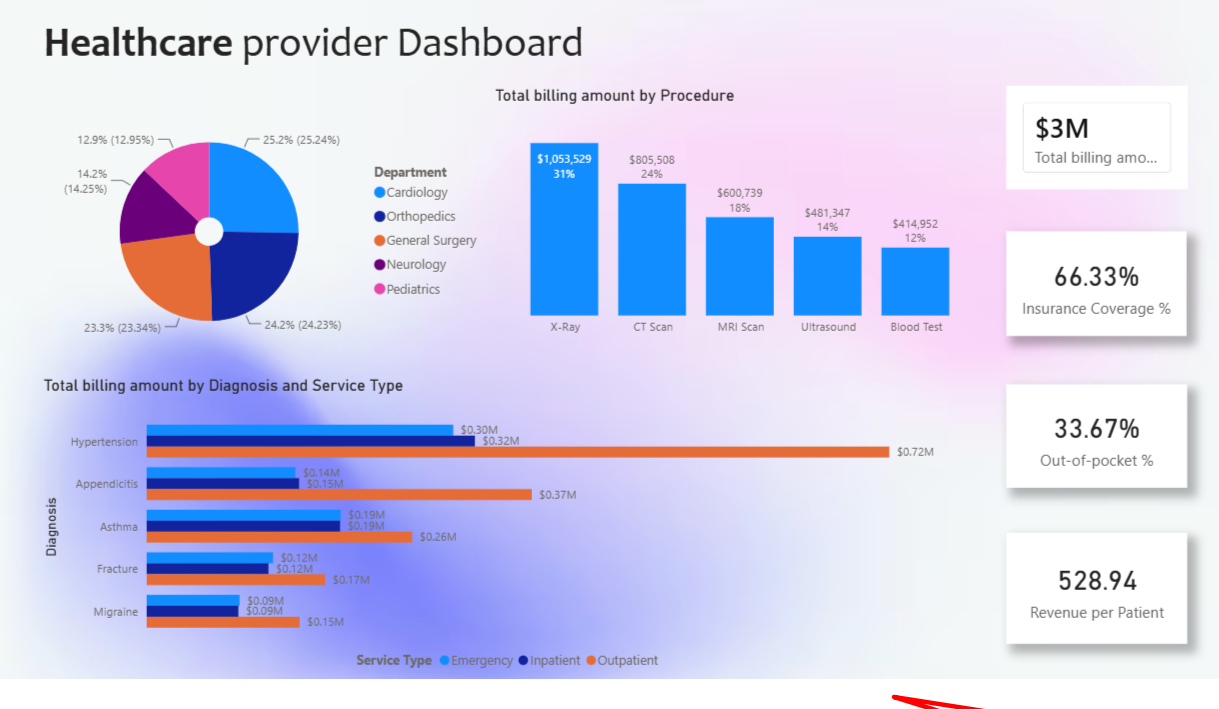

The dashboard page shown, as its layout file describes it:
{"tool":"powerbi","page":{"name":"Page 1","canvas":[1280,720],"ordinal":0},"visuals":[{"type":"card","fields":{"Values":["DAX calculation.Revenue per Patient"]},"box":[1056.7,566.7,190,116.7],"z":0},{"type":"card","fields":{"Values":["DAX calculation.Insurance Coverage %"]},"box":[1056.9,250.4,189,110.3],"z":1000},{"type":"card","fields":{"Values":["DAX calculation.Out-of-pocket %"]},"box":[1056.7,411.7,190,108.3],"z":2000},{"type":"clusteredColumnChart","fields":{"Category":["procedures.Procedure"],"Y":["DAX calculation.Total billing amount"]},"box":[515.1,97.7,526.1,270.9],"z":3000},{"type":"clusteredBarChart","fields":{"Category":["diagnoses.Diagnosis"],"Y":["DAX calculation.Total billing amount"],"Series":["visits.Service Type"]},"box":[41,401.6,989.2,318.2],"z":4000},{"type":"textbox","box":[40.7,20.3,616.6,77.3],"z":5000},{"type":"cardVisual","fields":{"Data":["DAX calculation.Total billing amount"]},"box":[1056.9,97.7,190.6,108.7],"z":6000},{"type":"donutChart","fields":{"Category":["departments.Department"],"Y":["DAX calculation.% Department"]},"box":[41,115,474.1,270.9],"z":7000}]}

Visuals, with their boxes on the page's 1280x720 design canvas (x1, y1, x2, y2). These are canvas units, not pixel positions in the 1219x709 screenshot, which may show the page scaled, cropped or inside an application window:
card - DAX calculation.Revenue per Patient: <box>1057,567,1247,683</box>
card - DAX calculation.Insurance Coverage %: <box>1057,250,1246,361</box>
card - DAX calculation.Out-of-pocket %: <box>1057,412,1247,520</box>
clusteredColumnChart - procedures.Procedure x DAX calculation.Total billing amount: <box>515,98,1041,369</box>
clusteredBarChart - diagnoses.Diagnosis x DAX calculation.Total billing amount: <box>41,402,1030,720</box>
textbox: <box>41,20,657,98</box>
cardVisual - DAX calculation.Total billing amount: <box>1057,98,1248,206</box>
donutChart - departments.Department x DAX calculation.% Department: <box>41,115,515,386</box>
